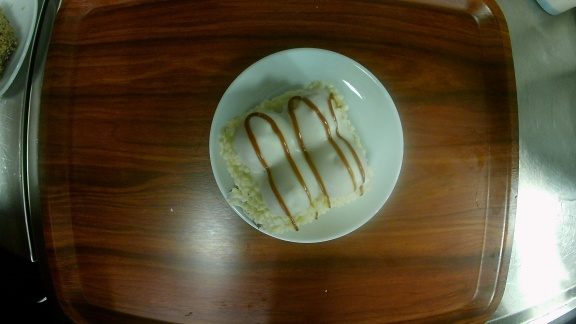beyazpasta: (209, 47, 405, 246)
